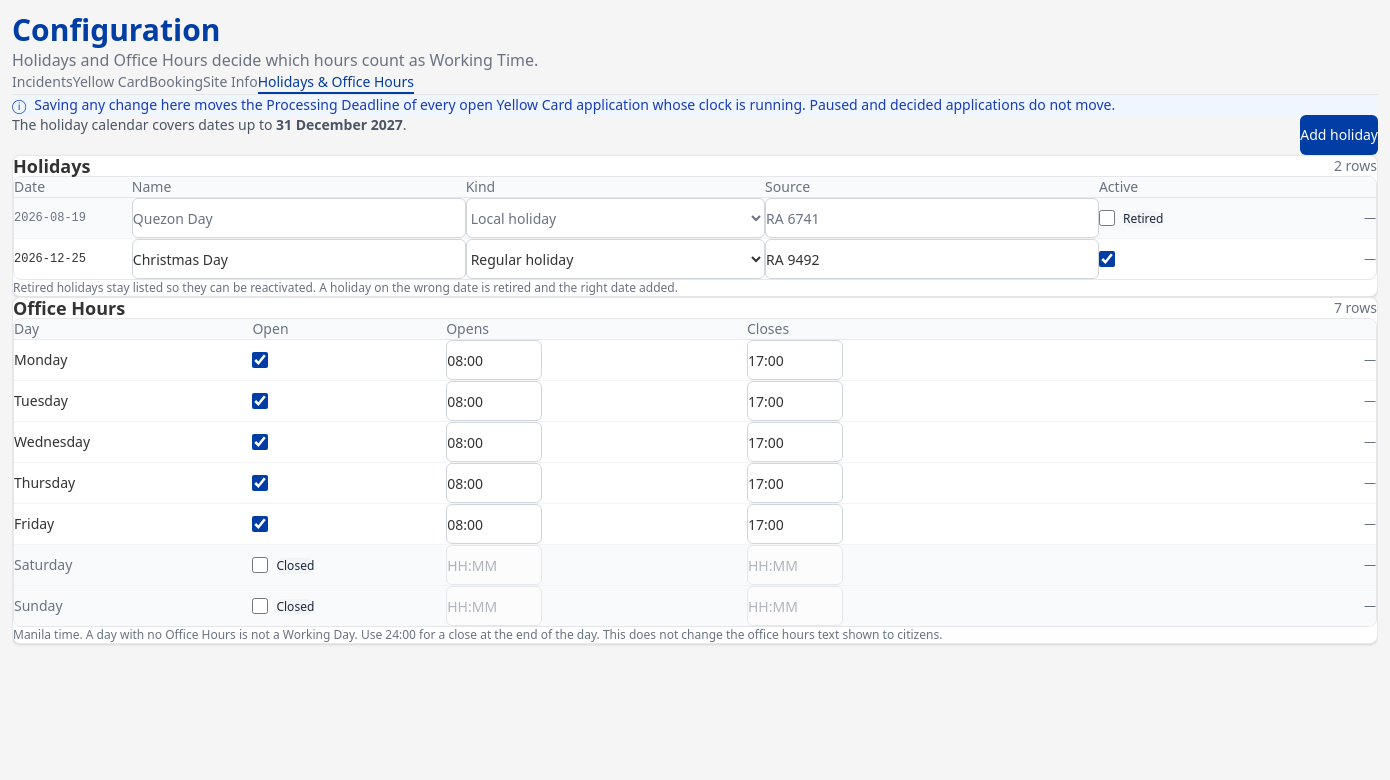
CalendarView — Office Hours › shows the database's 22023 message for a close before the open
Expected: the field showing "Christmas Day" is shown, [132,239,466,279]
Replace the text in the field named "Monday closes" with "07:00" at [795, 360], box [747,340,843,380]
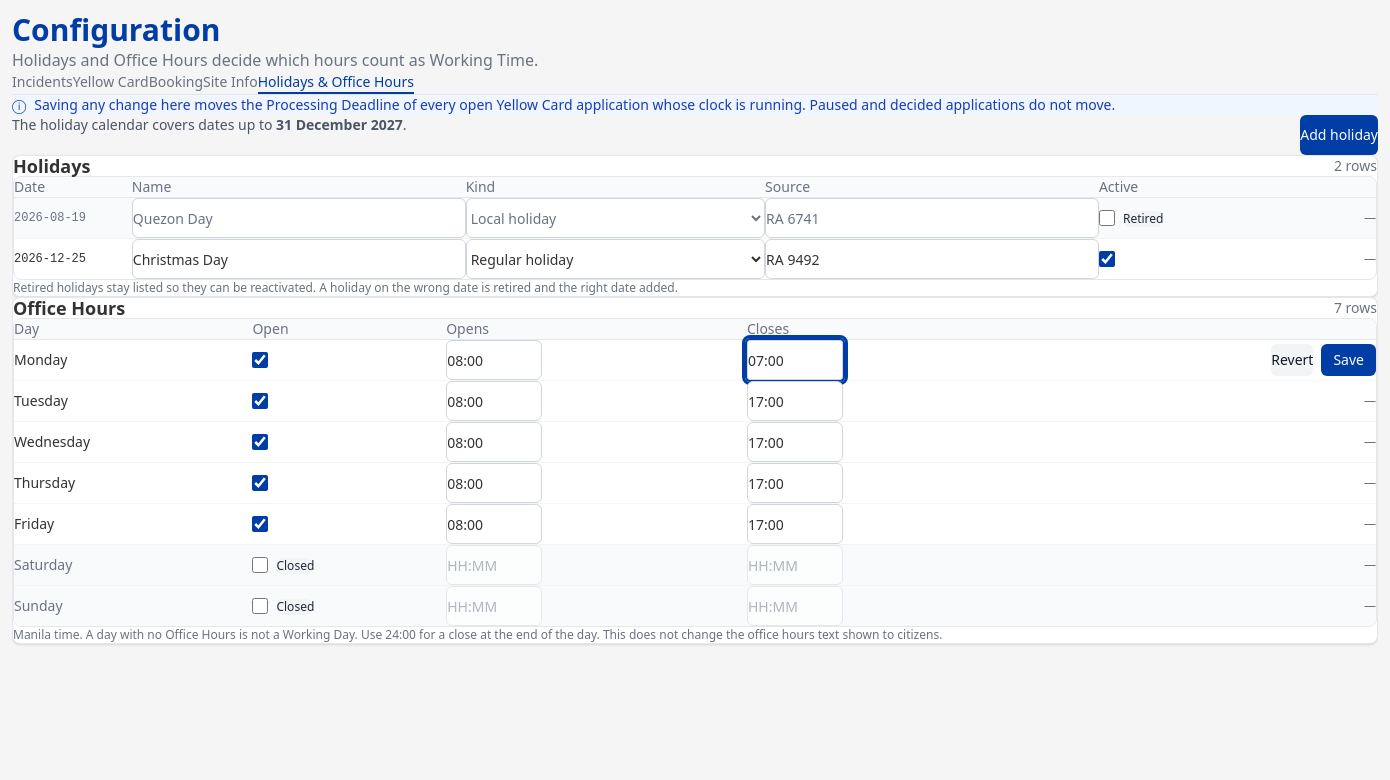
Click the button "Save" at [1349, 360], box [1321,344,1376,376]
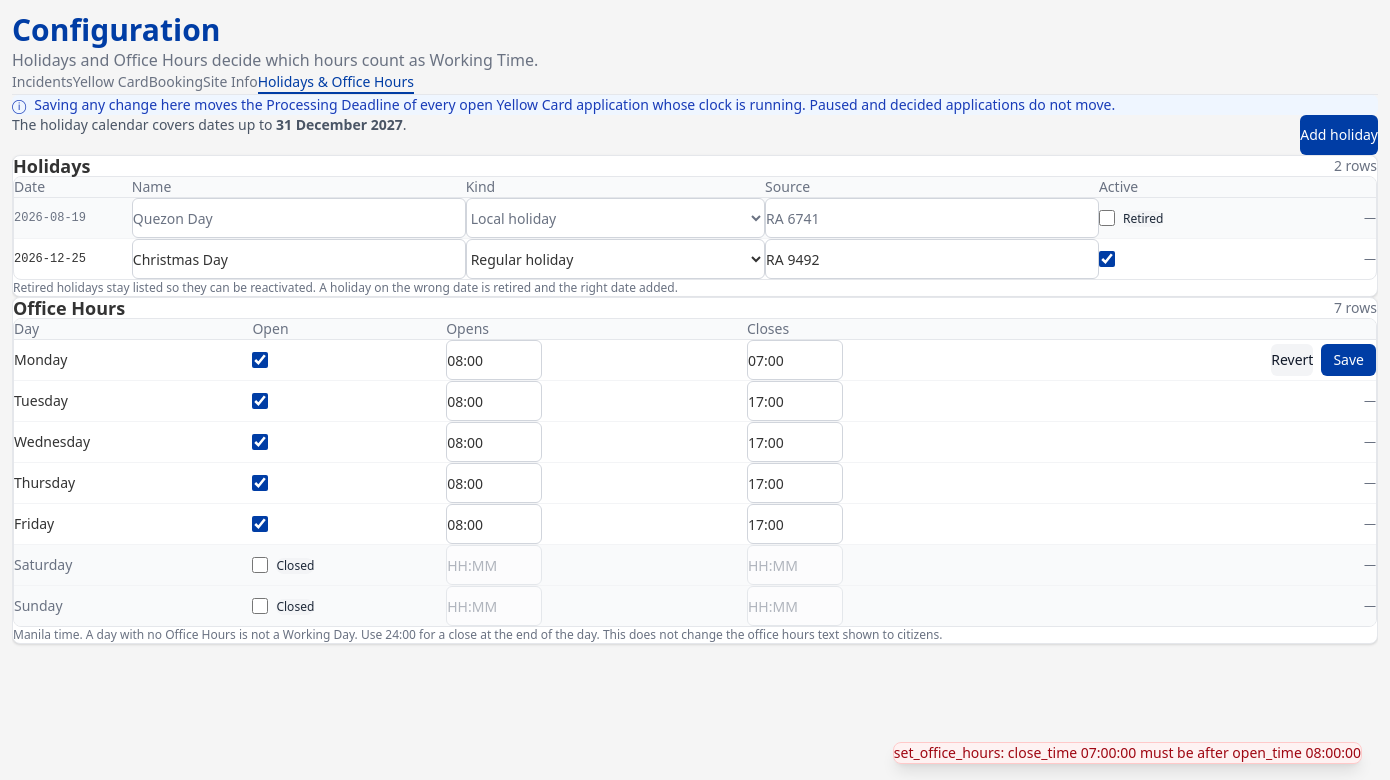
Expected: the message reads "set_office_hours: close_time 07:00:00 must be after open_time 08:00:00", [894,743,1361,762]
